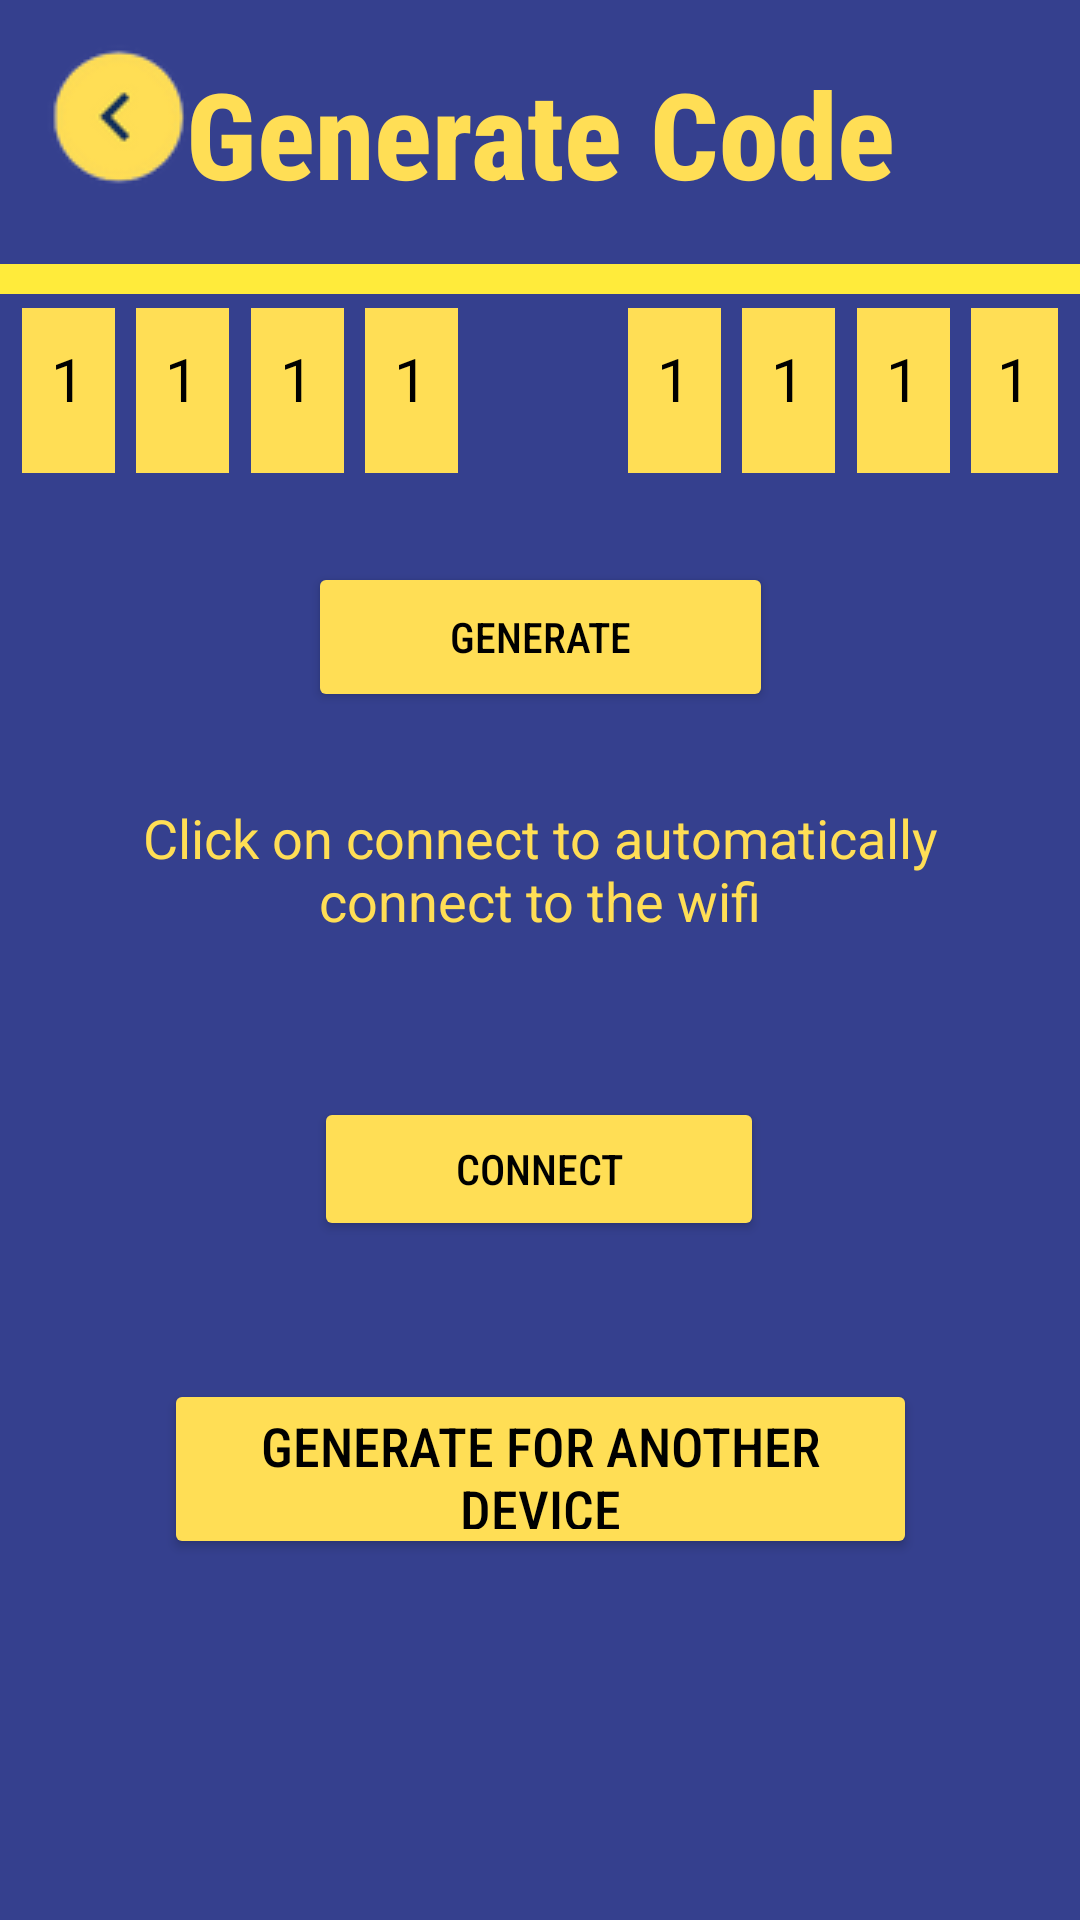

Icon click points for this 1080px x 1920px phone screenshot, format (x=x, y=y):
backbuttonn: (x=118, y=116)
